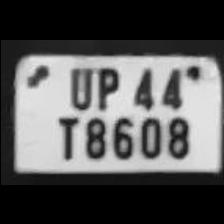0: (136, 110, 162, 158)
4: (154, 61, 188, 108), (124, 61, 156, 108)
6: (107, 110, 135, 158)
8: (162, 110, 192, 158), (79, 110, 107, 158)
P: (90, 61, 122, 108)
T: (50, 110, 80, 158)
U: (61, 61, 92, 108)
